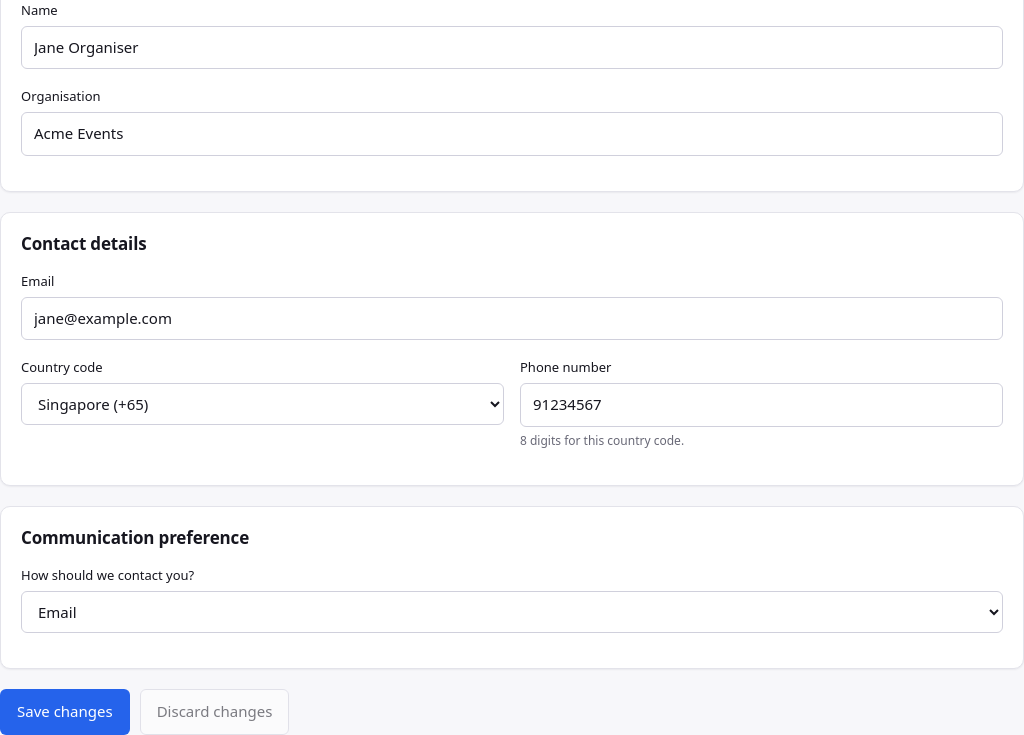
Test: network failure › shows a fallback message when the server cannot be reached
(page scrolled)
Click the button "Save changes": (65, 712) [0,689,130,734]
(page scrolled)
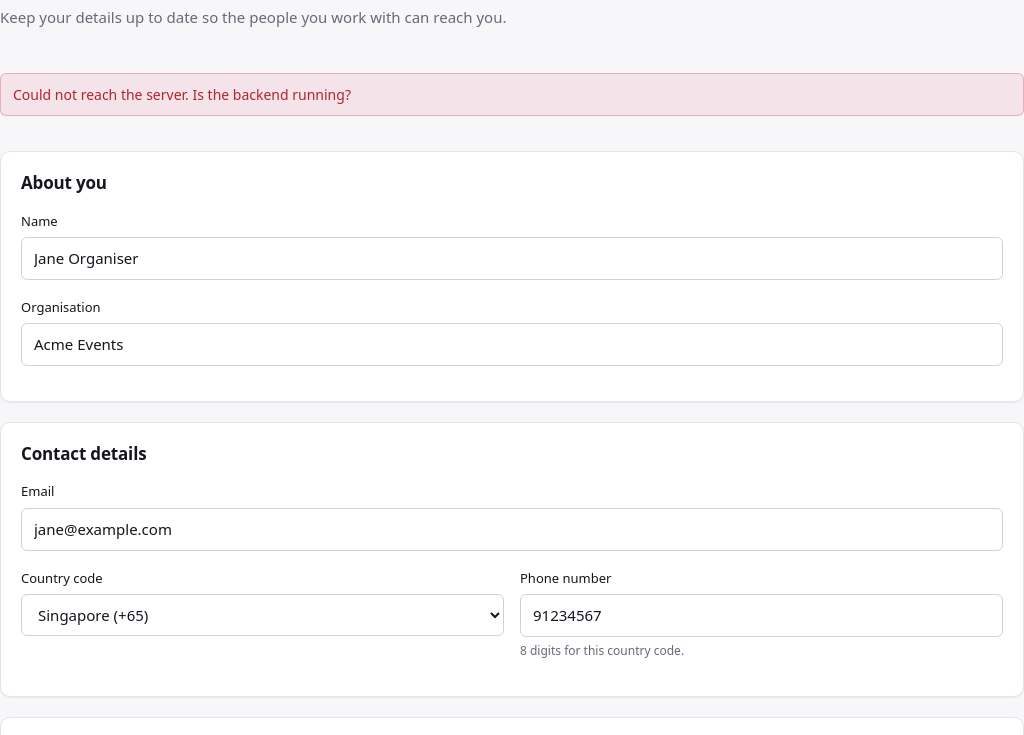
Result: the text "Could not reach the server. Is the backend running?" is shown at [0,73,1023,116]
